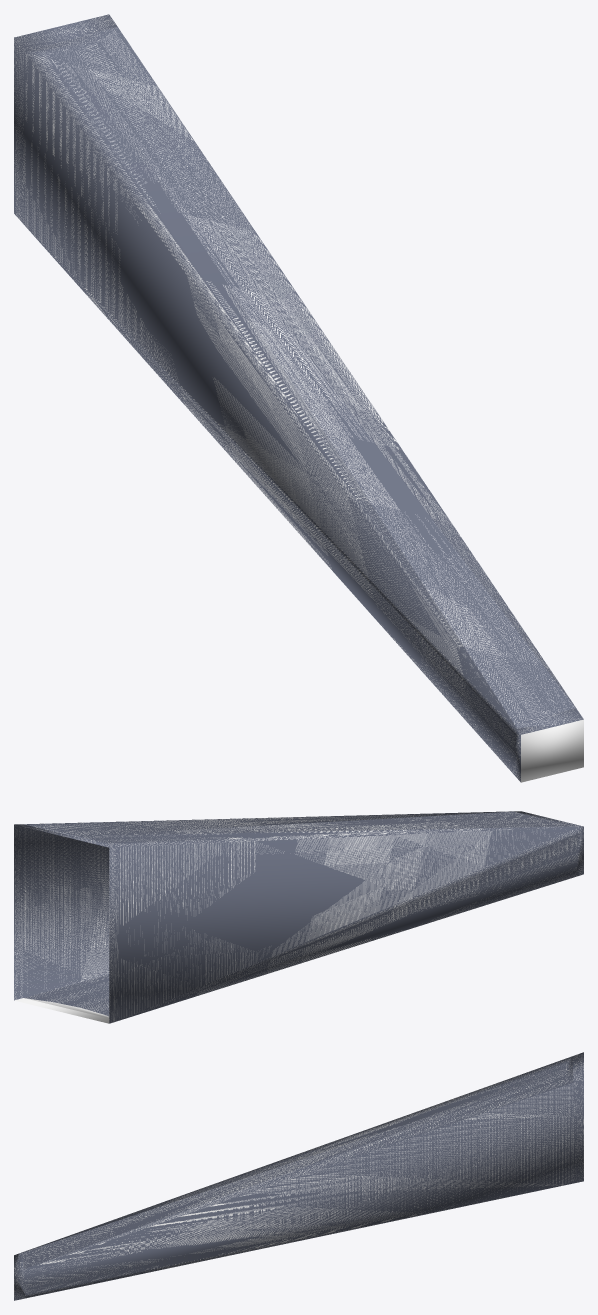
File: original-31.obj
3 views of the same model, one above another, from view 1: azimuth 30°, elevation 25°; view 2: azimuth 150°, elevation 25°; view 3: azimuth 270°, elevation 25° (orthographic). The views are drawn at different scales.
Parts seen in each view (by area): view 1: mesh27/mesh27-geometry#mesh27-geometry; view 2: mesh27/mesh27-geometry#mesh27-geometry; view 3: mesh27/mesh27-geometry#mesh27-geometry.
Part boxes in pixels (left/top/right/bottom): mesh27/mesh27-geometry#mesh27-geometry: left=14, top=14, right=583, bottom=782; mesh27/mesh27-geometry#mesh27-geometry: left=14, top=811, right=583, bottom=1023; mesh27/mesh27-geometry#mesh27-geometry: left=14, top=1052, right=583, bottom=1300.
Size of the model in its own units: 0.0361 by 0.1412 by 0.3222.
